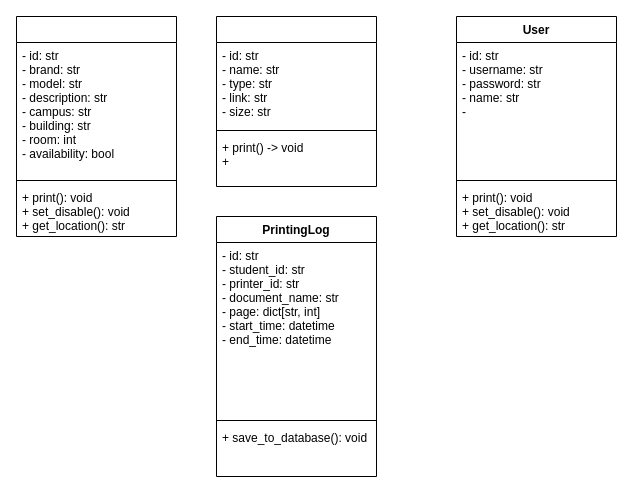
This 633x493 diagram has some shape labels left out. The box of each missing label's shape, as (x1, y1, x2, y2) in pixels:
Document: (216, 16, 376, 186)
Printer: (16, 16, 176, 236)
